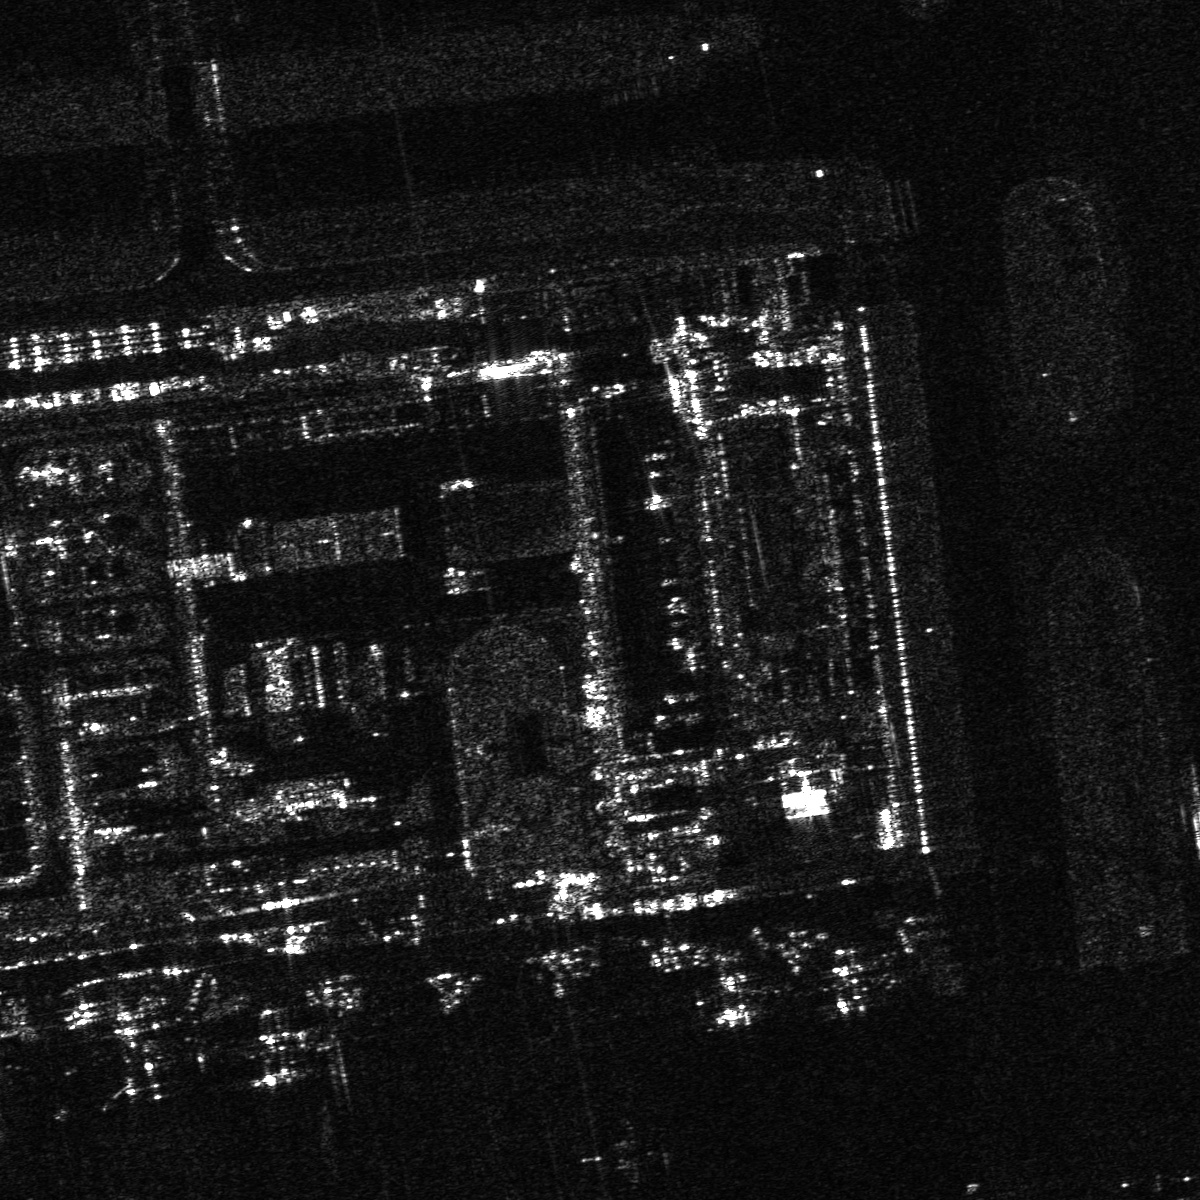Boeing737: (689, 965, 776, 1023)
Boeing787: (805, 938, 896, 1016)
other: (67, 1007, 207, 1111), (238, 1001, 320, 1087)
